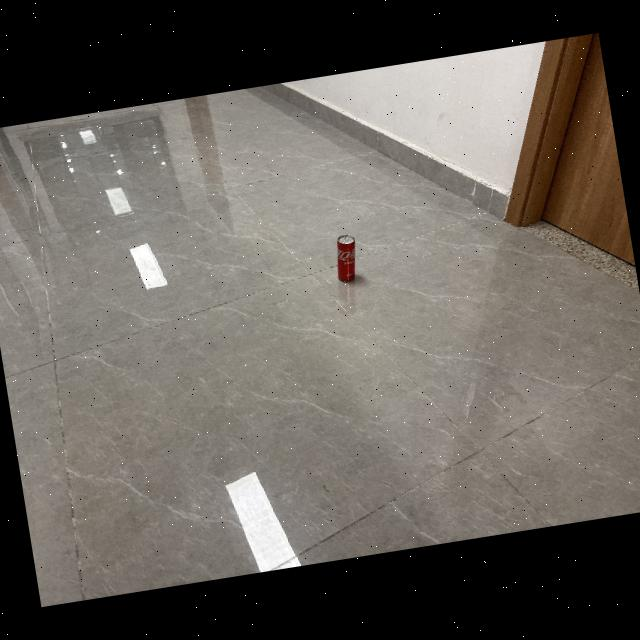Cola: (327, 228, 369, 290)
